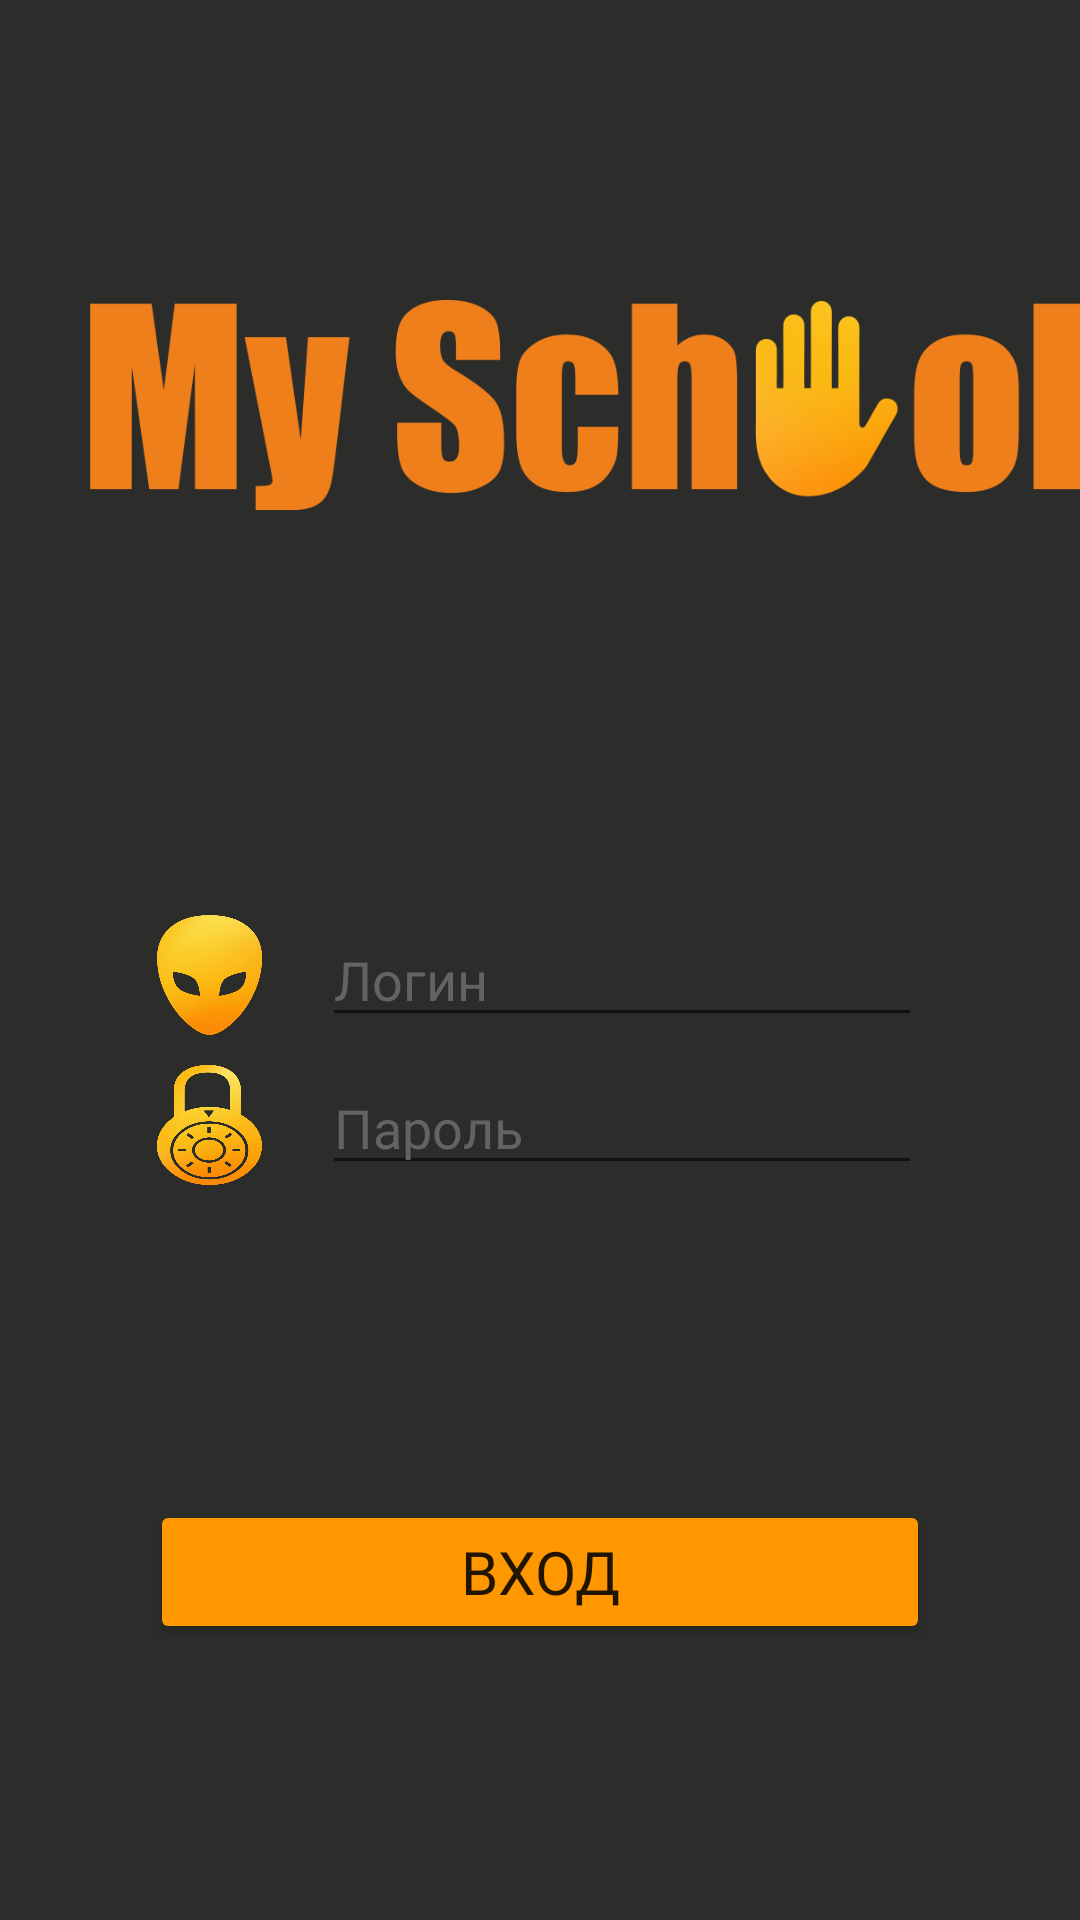

Icons on this 1080w x 1920h Android screen, each with the point to tap as (x,y):
lock two: (209,1125)
